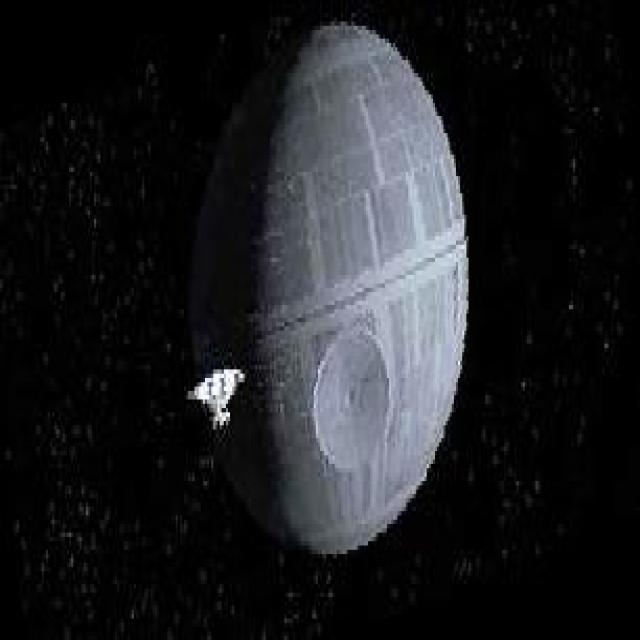Death Star: (182, 22, 484, 569)
